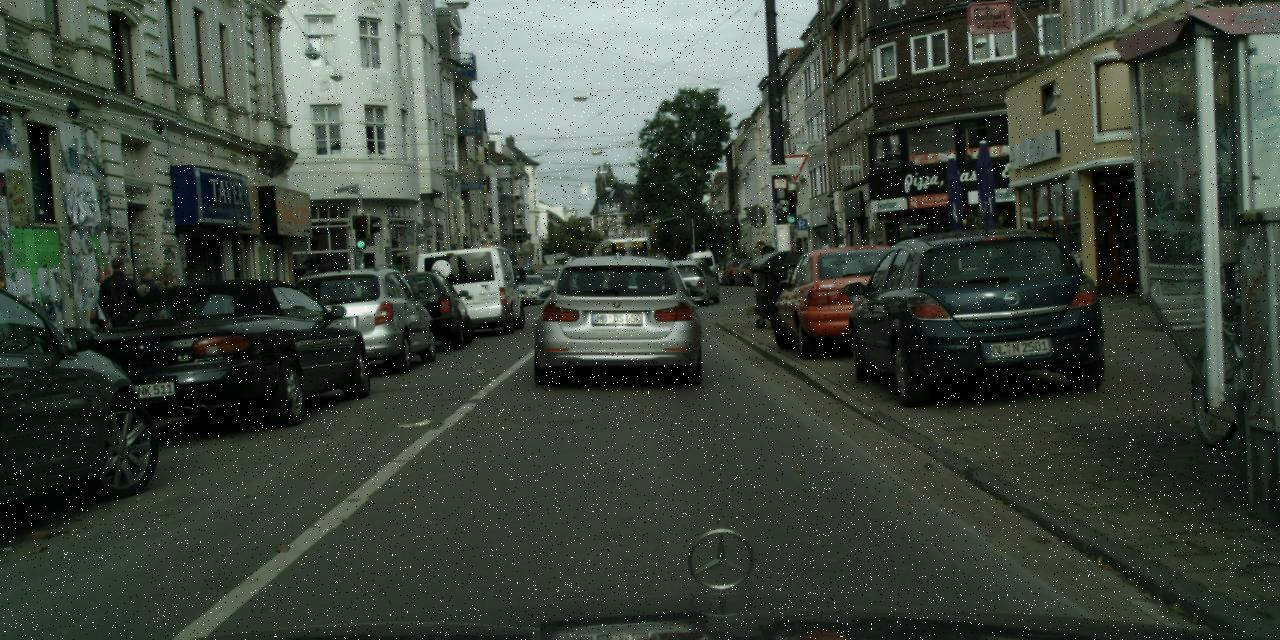ped: (98, 257, 146, 377), (146, 264, 192, 375), (126, 265, 170, 376), (753, 238, 781, 308)
